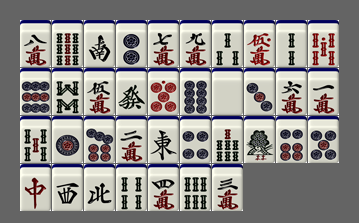0m: (244, 20, 275, 67)
0p: (148, 68, 179, 115)
0s: (308, 20, 339, 67)
1m: (308, 68, 339, 115)
1p: (52, 116, 83, 163)
1s: (244, 116, 275, 163)
1z: (148, 116, 179, 163)
2m: (116, 116, 147, 163)
2p: (116, 20, 147, 67)
2s: (276, 20, 307, 67)
2z: (84, 20, 115, 67)
3m: (212, 164, 243, 211)
3p: (244, 68, 275, 115)
3s: (212, 20, 243, 67)
3z: (52, 164, 83, 211)
4m: (148, 164, 179, 211)
4p: (180, 116, 211, 163)
4s: (116, 164, 147, 211)
4z: (84, 164, 115, 211)
5m: (84, 68, 115, 115)
5p: (308, 116, 339, 163)
5s: (20, 116, 51, 163)
5z: (212, 68, 243, 115)
6m: (276, 68, 307, 115)
6p: (276, 116, 307, 163)
6s: (180, 164, 211, 211)
6z: (116, 68, 147, 115)
7m: (148, 20, 179, 67)
7p: (84, 116, 115, 163)
7s: (212, 116, 243, 163)
7z: (20, 164, 51, 211)
8m: (20, 20, 51, 67)
8p: (180, 68, 211, 115)
8s: (52, 68, 83, 115)
9m: (180, 20, 211, 67)
9p: (20, 68, 51, 115)
9s: (52, 20, 83, 67)
